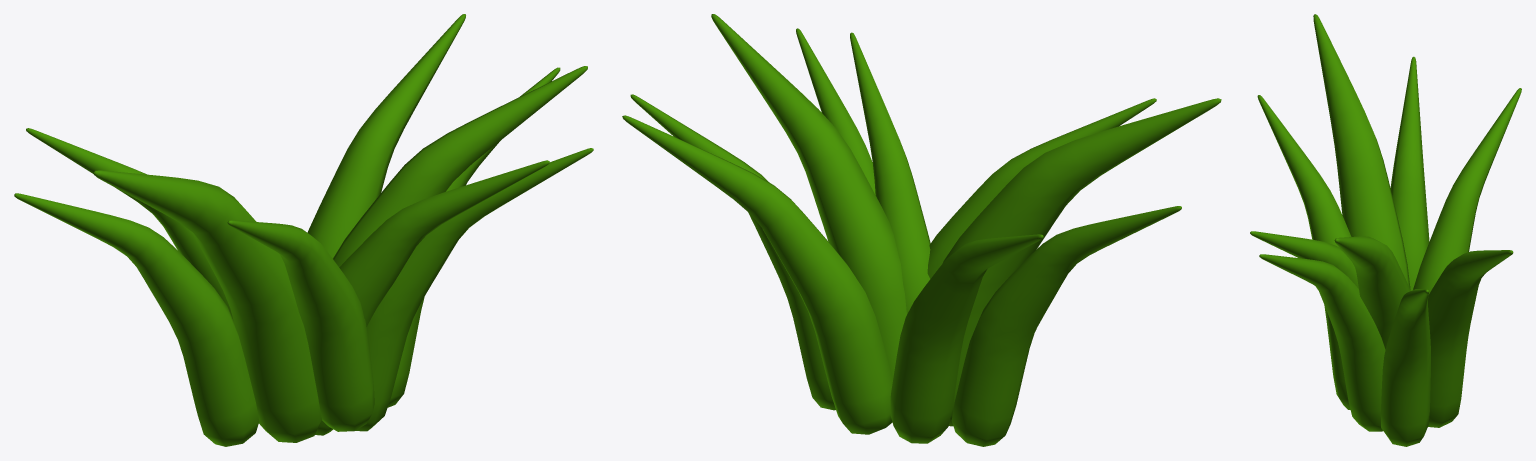
File: Proxy_Grass.fbx
The picture shows the model from 3 angles, left to right: view 1: azimuth 30°, elevation 25°; view 2: azimuth 150°, elevation 25°; view 3: azimuth 270°, elevation 25°; orthographic projection. The views are drawn at different scales.
Parts seen in each view (by area): view 1: Proxy_Grass; view 2: Proxy_Grass; view 3: Proxy_Grass.
Boxes of the visible parts, x1=… form: Proxy_Grass: x1=14, y1=14, x2=593, y2=446; Proxy_Grass: x1=622, y1=14, x2=1221, y2=446; Proxy_Grass: x1=1250, y1=14, x2=1521, y2=446.
Size of the model in its own units: 483 by 249 by 297.
